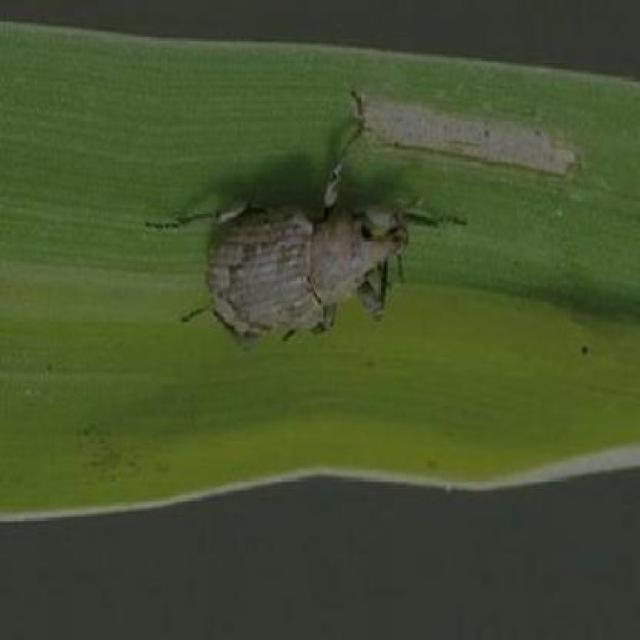rice-bug: (176, 128, 416, 346)
